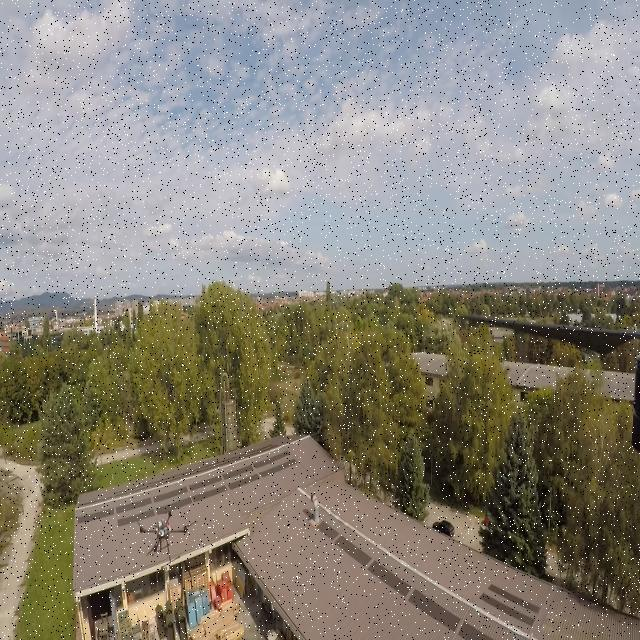UAV: (135, 506, 197, 572)
